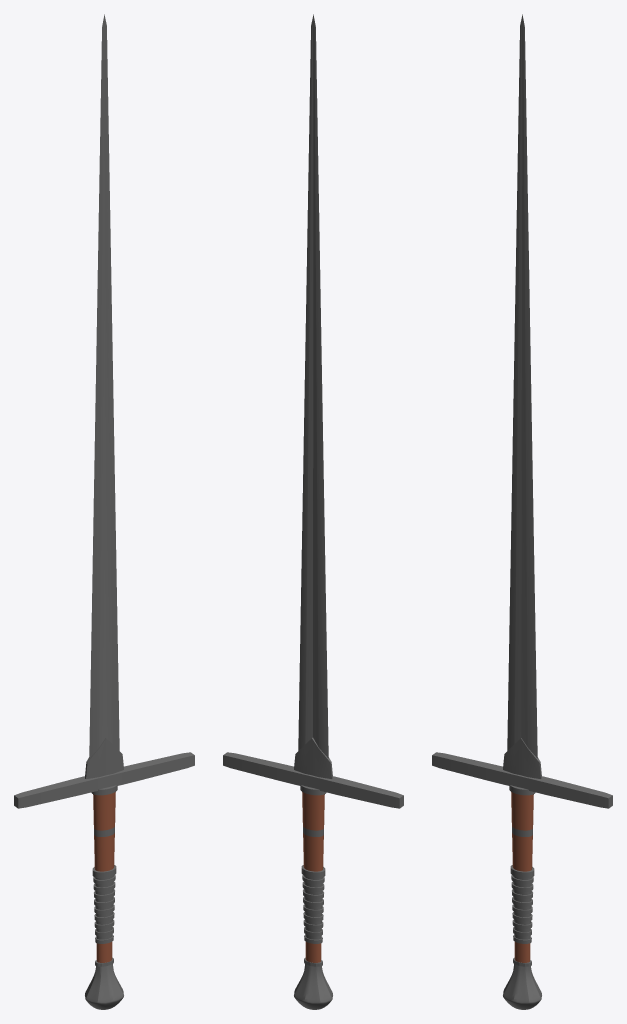
The model's file is LongSword.fbx.
3 views of the same model, side by side, from view 1: azimuth 30°, elevation 25°; view 2: azimuth 150°, elevation 25°; view 3: azimuth 330°, elevation 25° (orthographic).
Visible parts, largest first — view 1: Cube, Cylinder, Cube.001, Cylinder.001, Cube.002; view 2: Cube, Cylinder, Cube.001, Cylinder.001, Cube.002; view 3: Cube, Cylinder, Cube.001, Cylinder.001, Cube.002.
Boxes of the visible parts, x1,y1,x2,y2 form: Cube: (89, 14, 119, 758); Cylinder: (91, 785, 117, 962); Cube.001: (14, 752, 194, 808); Cylinder.001: (85, 964, 123, 1009); Cube.002: (85, 738, 123, 778); Cube: (298, 14, 328, 758); Cylinder: (300, 785, 326, 962); Cube.001: (223, 752, 403, 808); Cylinder.001: (294, 964, 332, 1009); Cube.002: (294, 737, 332, 778); Cube: (507, 14, 537, 758); Cylinder: (509, 785, 535, 962); Cube.001: (432, 752, 612, 808); Cylinder.001: (503, 964, 541, 1009); Cube.002: (503, 738, 541, 778).
Bounding box in the file's own units: 27.37 × 147 × 4.8.
